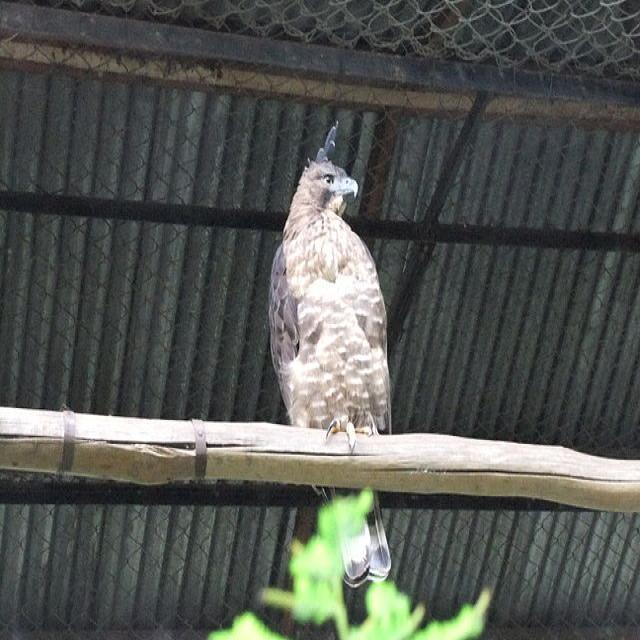Elang Jawa: (242, 101, 422, 614)
